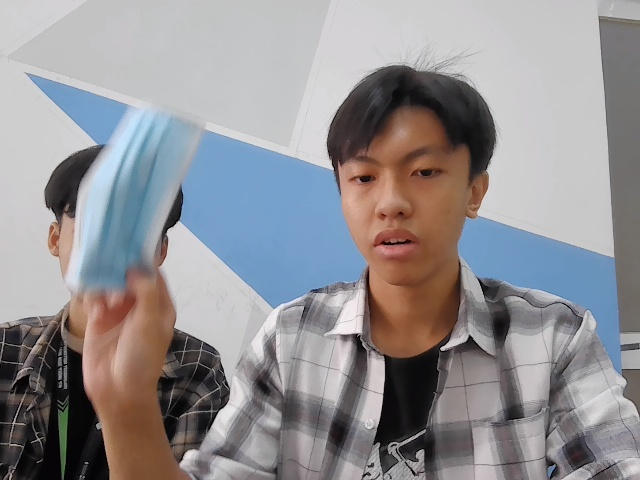human: (330, 60, 492, 287)
mask: (70, 100, 190, 298)
